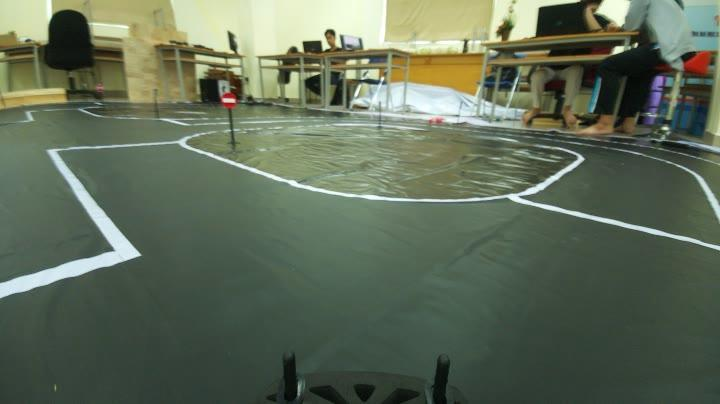no_entry: (214, 90, 243, 112)
